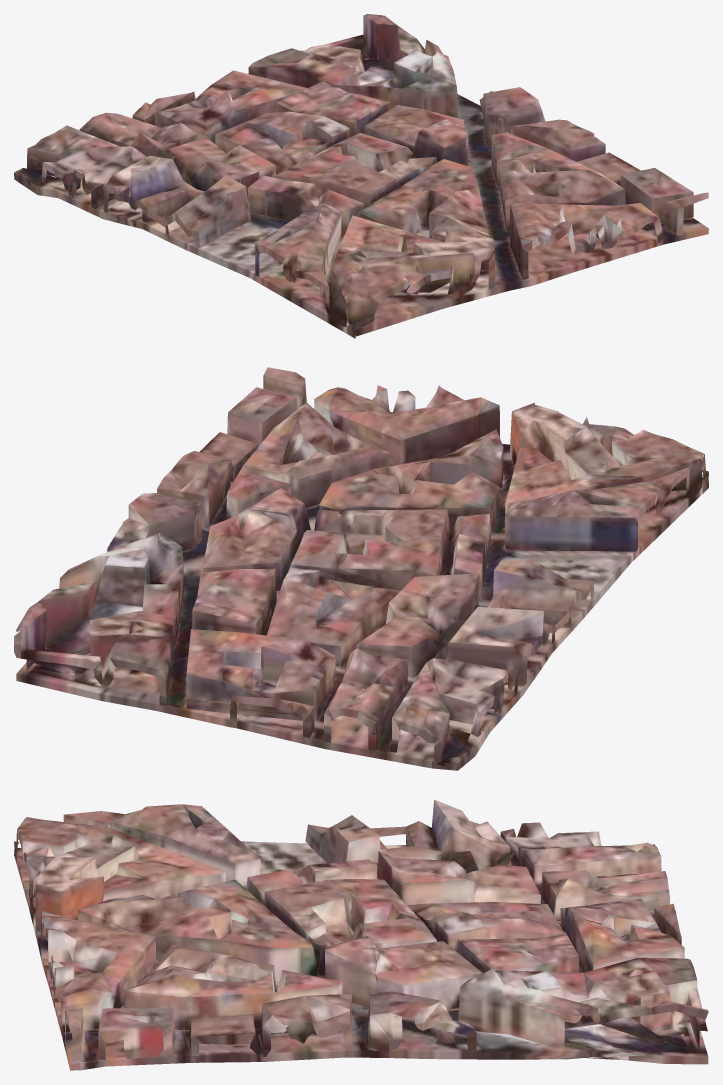
3 views of the same model, one above another, from view 1: azimuth 30°, elevation 25°; view 2: azimuth 150°, elevation 25°; view 3: azimuth 270°, elevation 25° (orthographic). The views are drawn at different scales.
Visible parts, largest first — view 1: Mesh_0; view 2: Mesh_0; view 3: Mesh_0.
Boxes of the visible parts, x1,y1,x2,y2 form: Mesh_0: (14,14,708,338); Mesh_0: (14,367,708,770); Mesh_0: (14,799,708,1070).
Size of the model in its own units: 266 by 50.89 by 330.
1 material, 1 textured.
